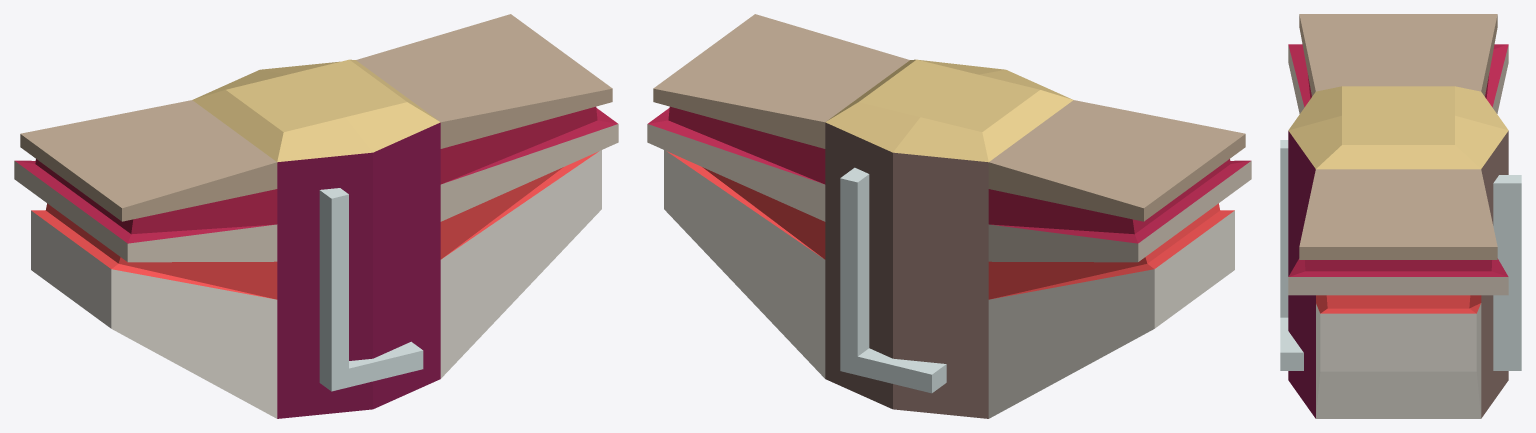
Rendered from PowerUpContentL.fbx.
3 renders of one model, left to right at view 1: azimuth 30°, elevation 25°; view 2: azimuth 150°, elevation 25°; view 3: azimuth 270°, elevation 25°, orthographic. The views are drawn at different scales.
Parts seen in each view (by area): view 1: PowerUpContentL; view 2: PowerUpContentL; view 3: PowerUpContentL.
Part boxes in pixels (x1,y1,x2,y2): PowerUpContentL: (14, 14, 618, 418); PowerUpContentL: (647, 14, 1251, 418); PowerUpContentL: (1280, 14, 1521, 418).
Bounding box in the file's own units: 100 × 52.96 × 43.78.
